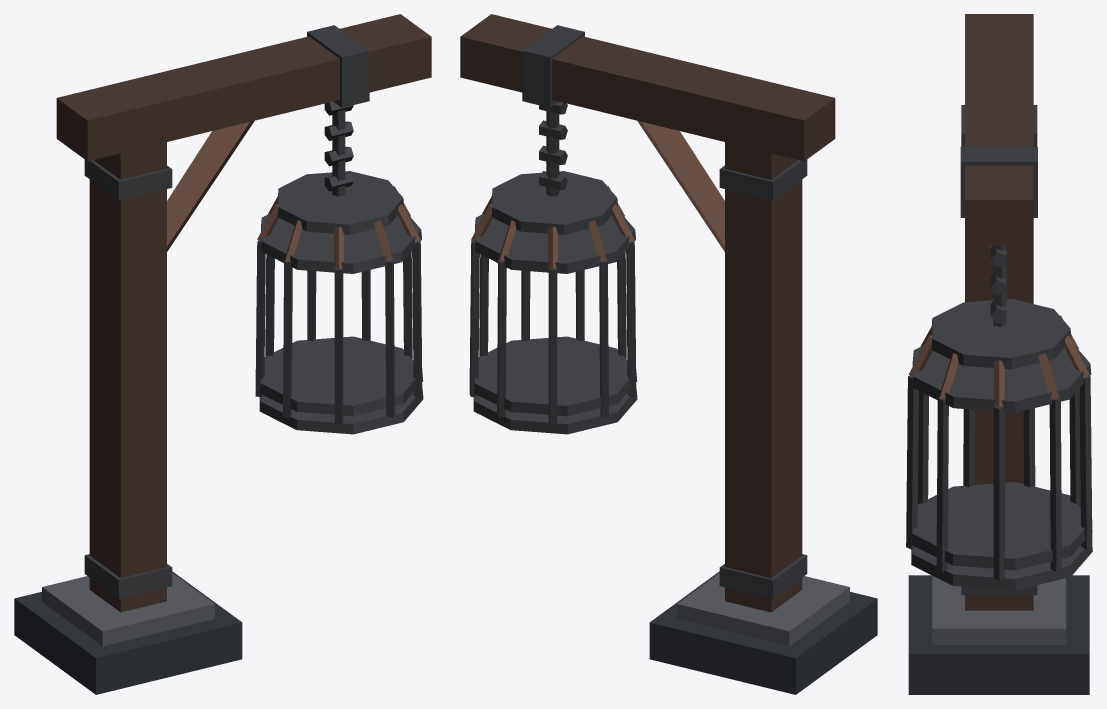
The model's file is empty-gibbet.glb.
3 views of the same model, side by side, from view 1: azimuth 30°, elevation 25°; view 2: azimuth 150°, elevation 25°; view 3: azimuth 270°, elevation 25° (orthographic). The views are drawn at different scales.
Parts seen in each view (by area): view 1: The empty gibbet; view 2: The empty gibbet; view 3: The empty gibbet.
Boxes of the visible parts, x1,y1,x2,y2 form: The empty gibbet: [14, 14, 431, 694]; The empty gibbet: [460, 14, 877, 694]; The empty gibbet: [906, 14, 1092, 694].
Bounding box in the file's own units: 1.48 × 2.17 × 0.5987.
